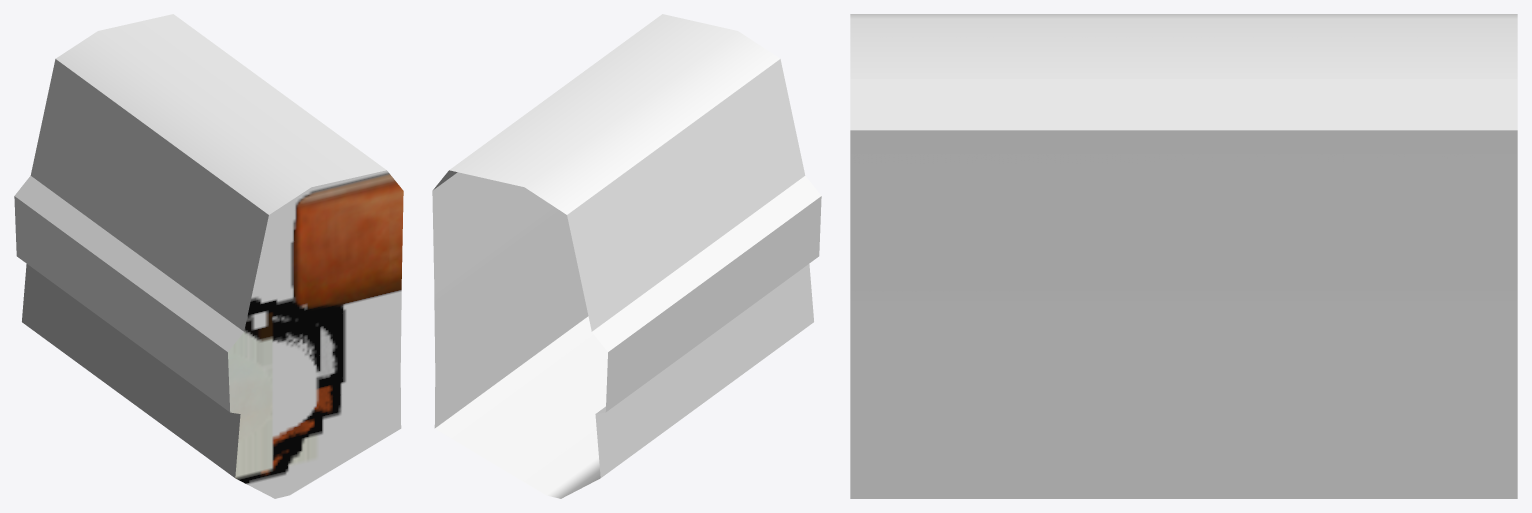
The model's file is Runa_01.fbx.
The picture shows the model from 3 angles, left to right: view 1: azimuth 30°, elevation 25°; view 2: azimuth 150°, elevation 25°; view 3: azimuth 270°, elevation 25°; orthographic projection. The views are drawn at different scales.
Parts seen in each view (by area): view 1: Runa_01; view 2: Runa_01; view 3: Runa_01.
Boxes of the visible parts, x1,y1,x2,y2 form: Runa_01: [14, 14, 403, 498]; Runa_01: [432, 14, 821, 498]; Runa_01: [850, 14, 1517, 498].
Size of the model in its own units: 1.49 by 2.45 by 3.13.
